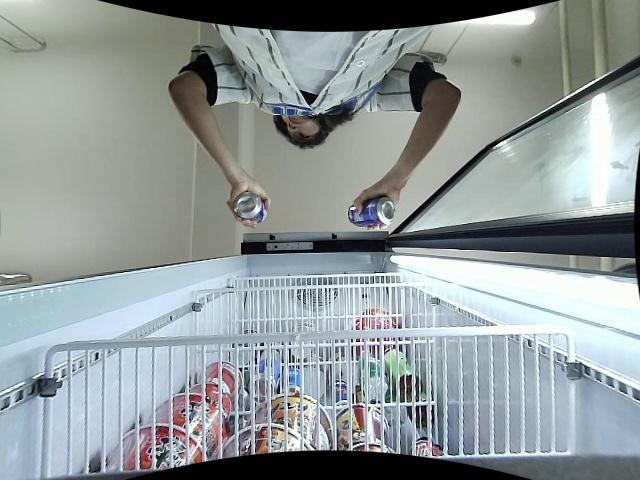00_hand: (353, 181, 401, 231), (225, 178, 272, 228)
14_welchsGrape: (347, 195, 394, 229), (232, 194, 268, 224)
